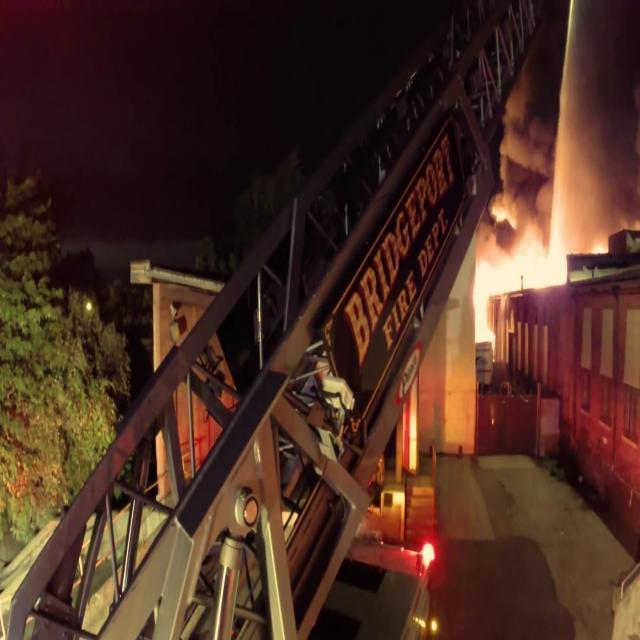Fire: (470, 244, 570, 360)
Smoke: (478, 0, 580, 242)
